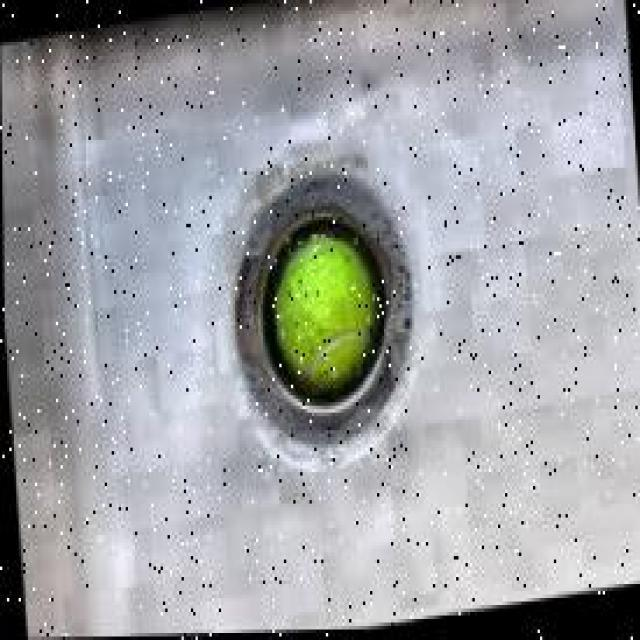tennis-ball: (268, 226, 382, 404)
